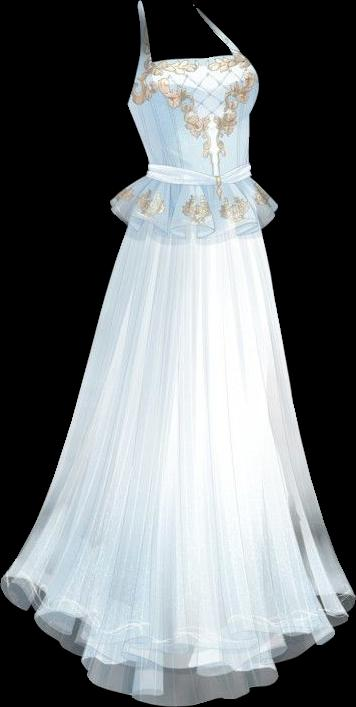Bodice: (127, 1, 258, 187)
Hemline: (6, 582, 355, 677), (108, 198, 279, 243)
Neckline: (144, 54, 253, 184), (137, 0, 236, 69)
Skirt: (0, 176, 355, 705)
Waistline: (144, 171, 254, 191)
